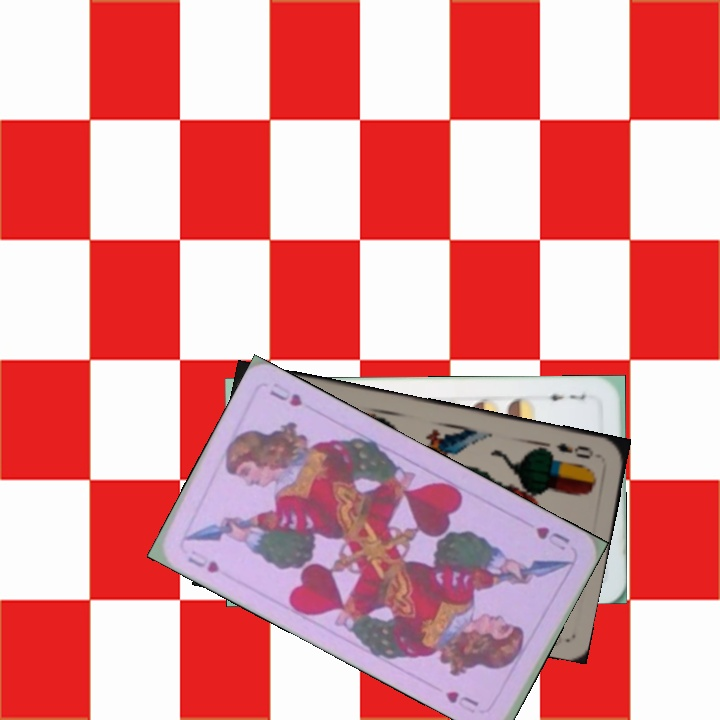E7: (540, 389, 589, 404)
EO: (552, 438, 596, 462)
HU: (532, 522, 572, 553), (183, 546, 222, 576)
